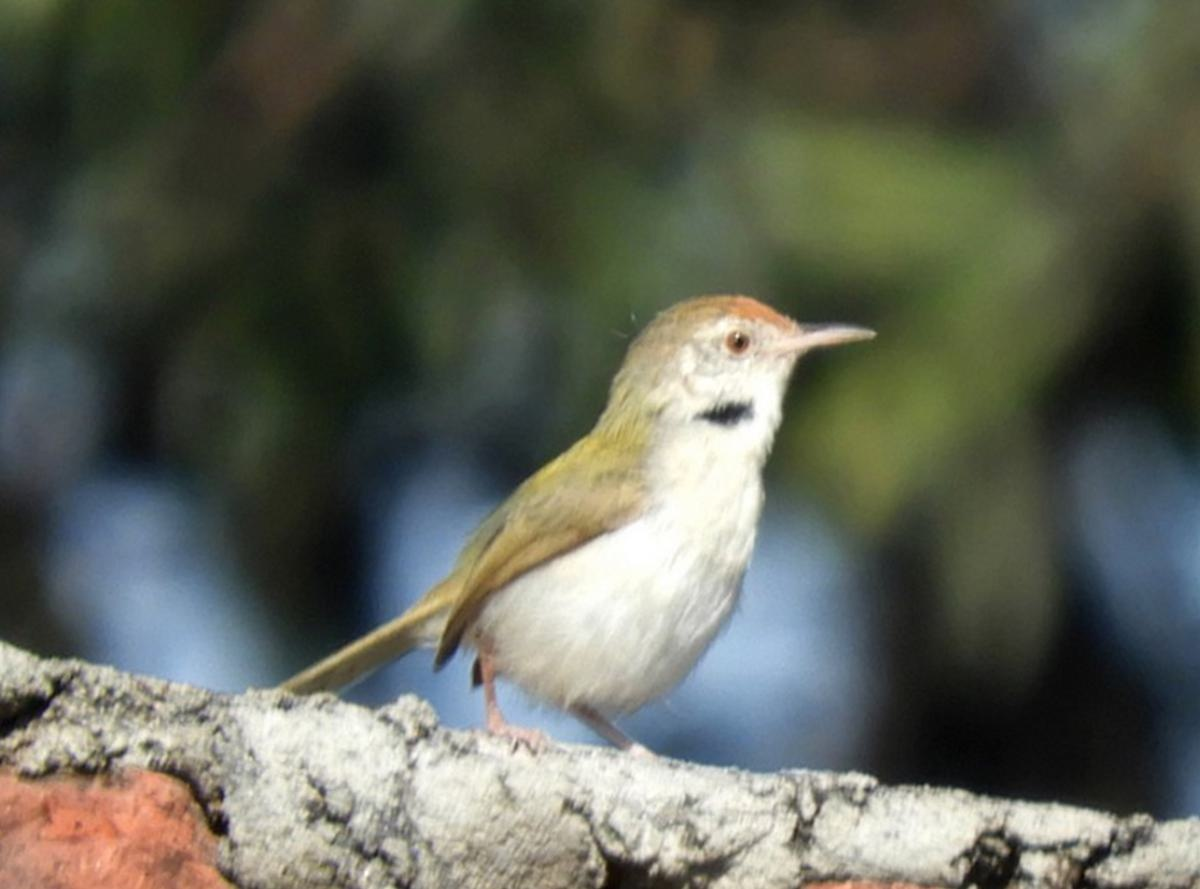tailorbird: (277, 306, 878, 757)
